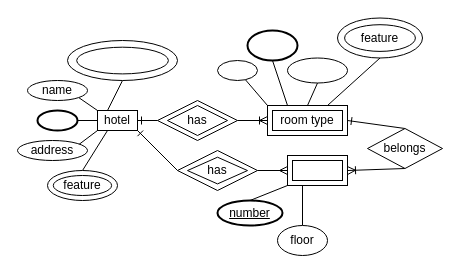
The diagram is 460 pixels wide and 273 high, and some of its shapes have lost their labels. Here are the shapes that lost their labels. From the top down, the centre of each, then its label:
At point 122,60: "phone number".
At point 272,45: "type".
At point 237,70: "size".
At point 317,70: "capacity".
At point 57,120: "id".
At point 317,170: "room".
